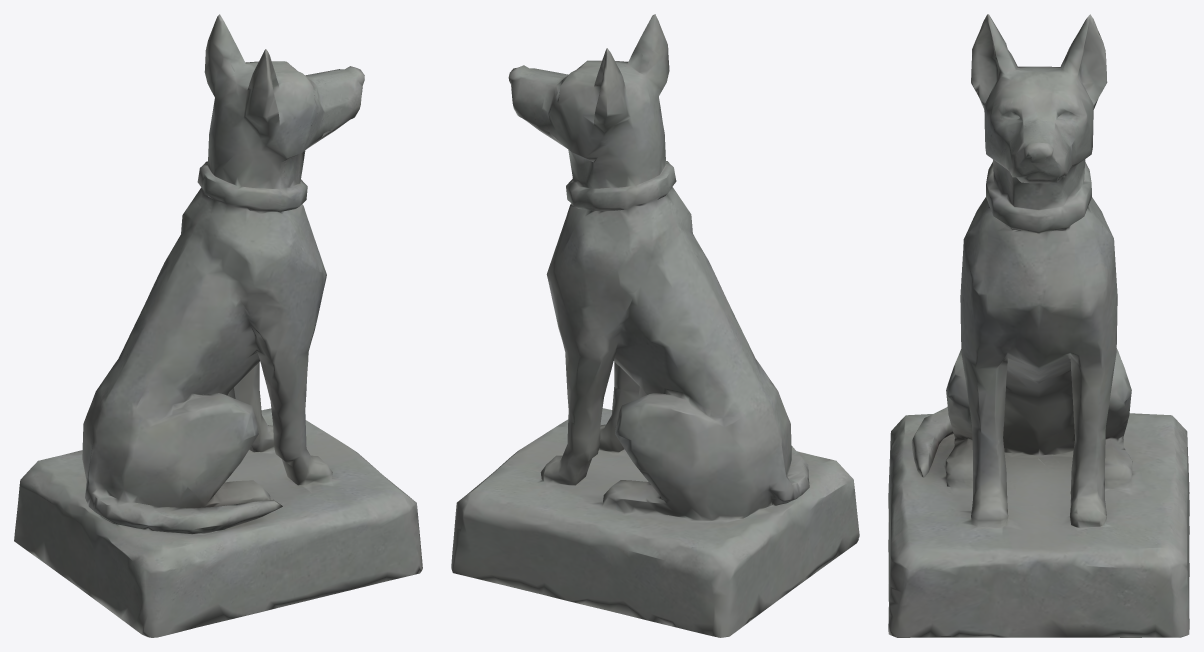
File: hound.glb
The picture shows the model from 3 angles, left to right: view 1: azimuth 30°, elevation 25°; view 2: azimuth 150°, elevation 25°; view 3: azimuth 270°, elevation 25°; orthographic projection. The views are drawn at different scales.
Visible parts, largest first — view 1: tripo_node_390dbd07-29e9-4958-af57-ab2091db8361; view 2: tripo_node_390dbd07-29e9-4958-af57-ab2091db8361; view 3: tripo_node_390dbd07-29e9-4958-af57-ab2091db8361.
Part boxes in pixels (<box>): tripo_node_390dbd07-29e9-4958-af57-ab2091db8361: <box>14,14,422,637</box>; tripo_node_390dbd07-29e9-4958-af57-ab2091db8361: <box>451,14,859,637</box>; tripo_node_390dbd07-29e9-4958-af57-ab2091db8361: <box>888,14,1189,637</box>.
Bounding box in the file's own units: 0.5681 × 1 × 0.4847.
1 material, 1 textured.
